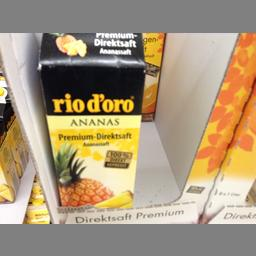juice: (38, 32, 145, 206)
